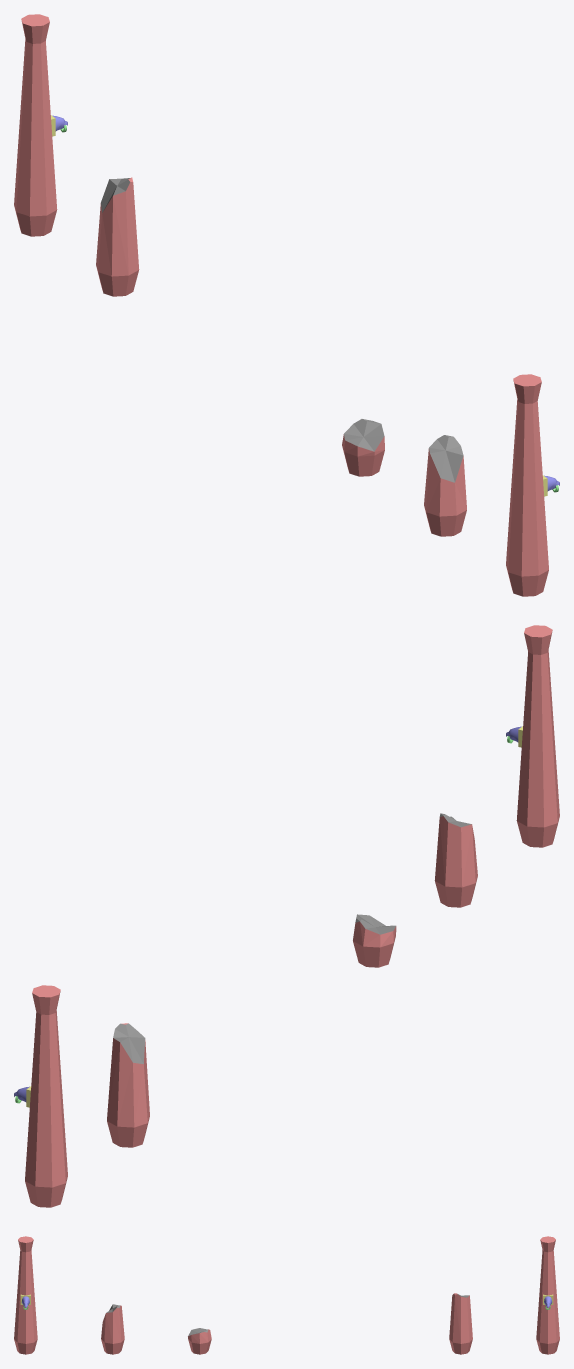
File: SSQ_BRoom_pillar02.gltf
3 views of the same model, one above another, from view 1: azimuth 30°, elevation 25°; view 2: azimuth 150°, elevation 25°; view 3: azimuth 270°, elevation 25° (orthographic). The views are drawn at different scales.
Parts seen in each view (by area): view 1: SSQ_BRoom_pillar02; view 2: SSQ_BRoom_pillar02; view 3: SSQ_BRoom_pillar02.
Boxes of the visible parts, x1,y1,x2,y2 form: SSQ_BRoom_pillar02: [14, 14, 559, 596]; SSQ_BRoom_pillar02: [14, 625, 559, 1207]; SSQ_BRoom_pillar02: [14, 1236, 559, 1354].
Bounding box in the file's own units: 0.935 × 3.61 × 16.06.
